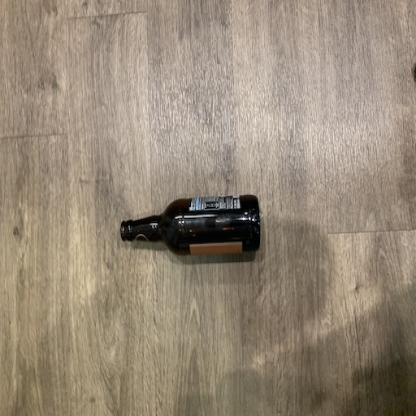trash: (120, 195, 262, 256)
